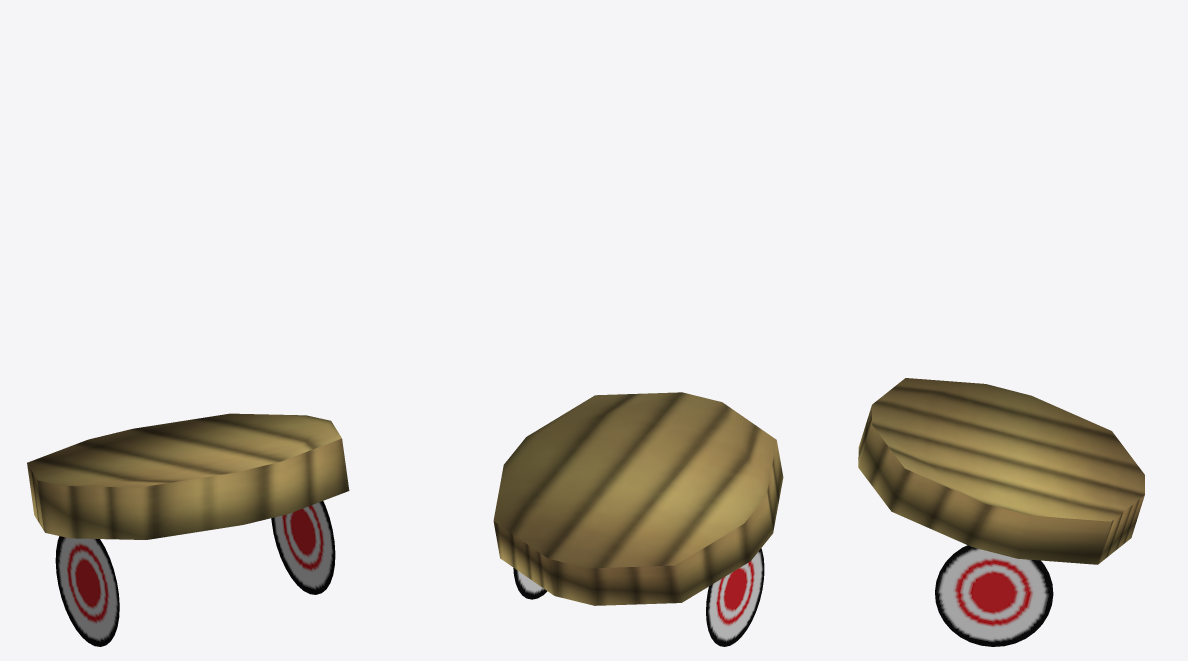
Rendered from helmet_nobre_4.dae.
3 renders of one model, left to right at view 1: azimuth 30°, elevation 25°; view 2: azimuth 150°, elevation 25°; view 3: azimuth 270°, elevation 25°, orthographic. The views are drawn at different scales.
Parts seen in each view (by area): view 1: helmet_nobre_4; view 2: helmet_nobre_4; view 3: helmet_nobre_4.
Part boxes in pixels (x1,y1,x2,y2): helmet_nobre_4: [27, 413, 349, 646]; helmet_nobre_4: [493, 392, 783, 646]; helmet_nobre_4: [858, 378, 1144, 646].
Size of the model in its own units: 0.7822 by 0.6566 by 1.34.
